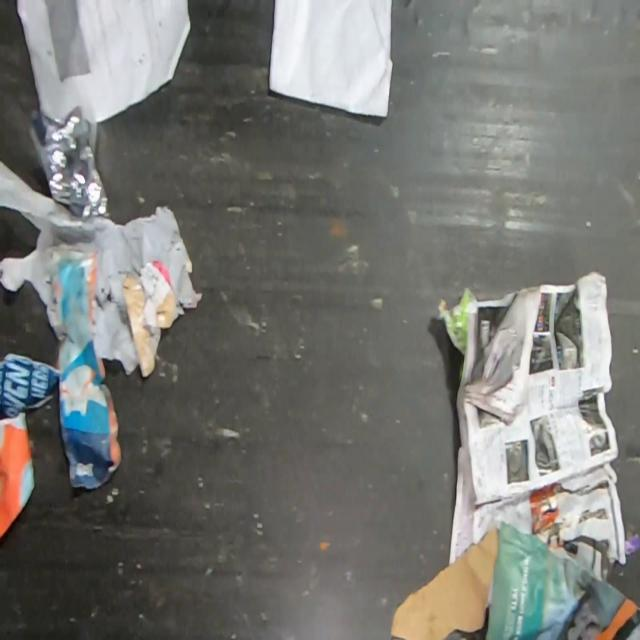cardboard: (391, 518, 500, 639)
metal: (26, 104, 114, 222)
soft_plastic: (0, 157, 203, 376)
